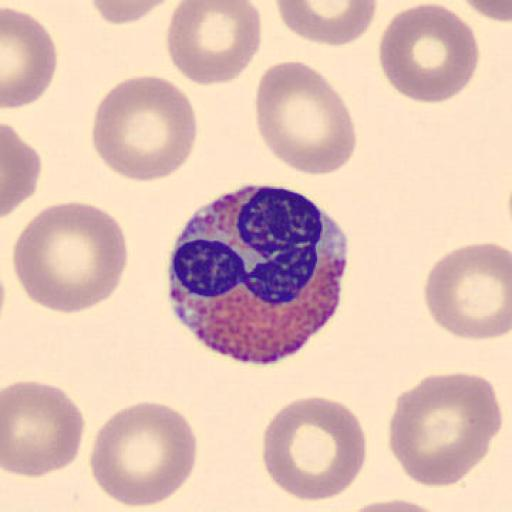RBC: (386, 370, 504, 488), (11, 200, 130, 315), (88, 398, 199, 510), (254, 59, 358, 178), (90, 74, 199, 184), (260, 394, 368, 503), (378, 2, 480, 105), (422, 240, 512, 341), (1, 378, 87, 480), (166, 0, 262, 86), (2, 6, 58, 110), (274, 0, 379, 47), (2, 121, 42, 219), (89, 0, 185, 24), (335, 496, 450, 512), (459, 0, 512, 23)
WBC: (165, 178, 348, 364)
